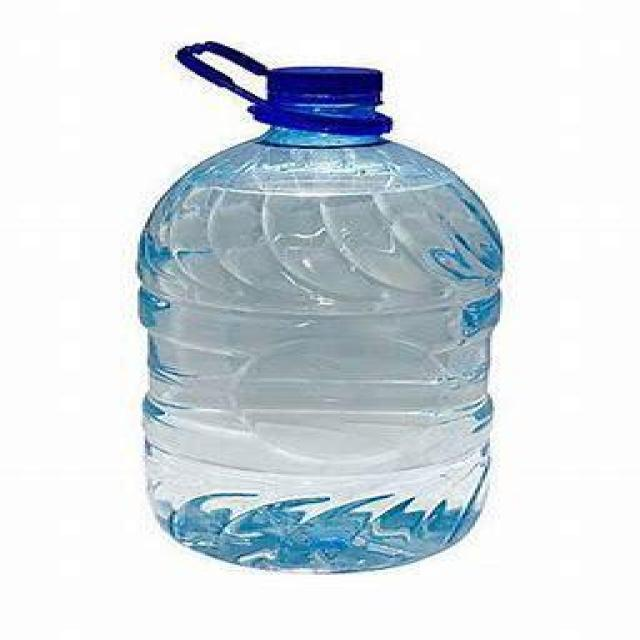bottle: (131, 30, 509, 574)
